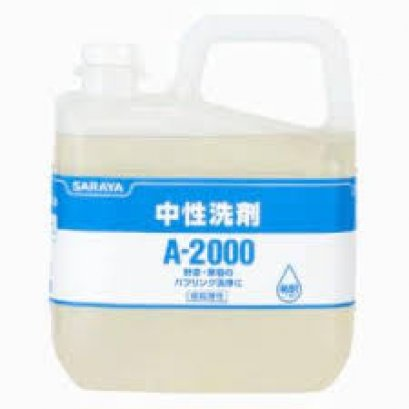Cleaning_solution: (44, 11, 359, 397)
